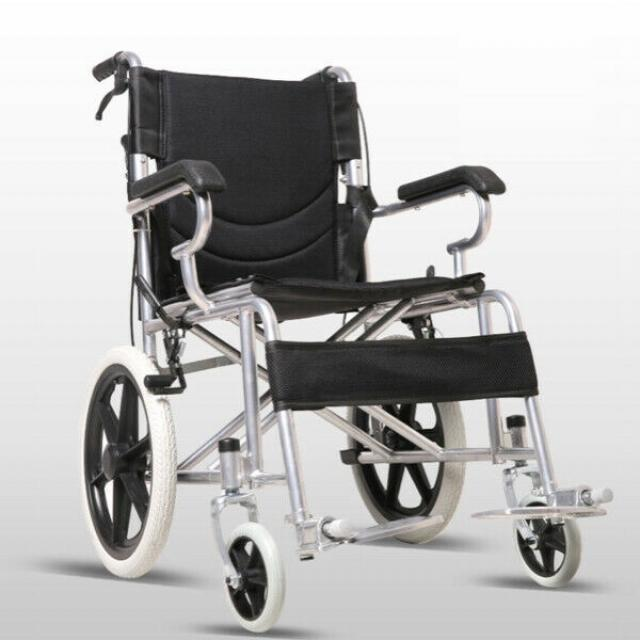wheelchair: (56, 27, 630, 633)
